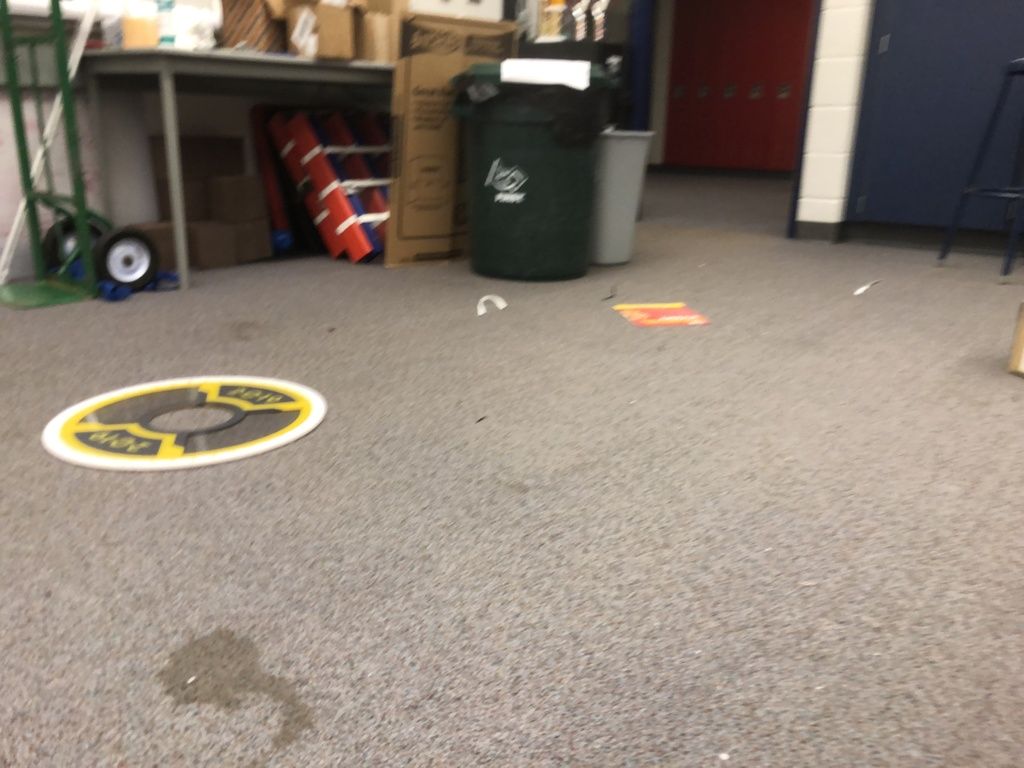hatch_panel: (26, 360, 340, 479)
